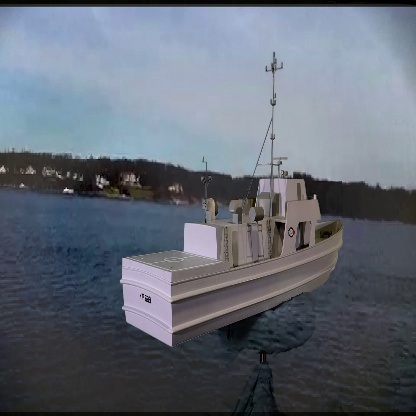YP689: (107, 47, 350, 350)
